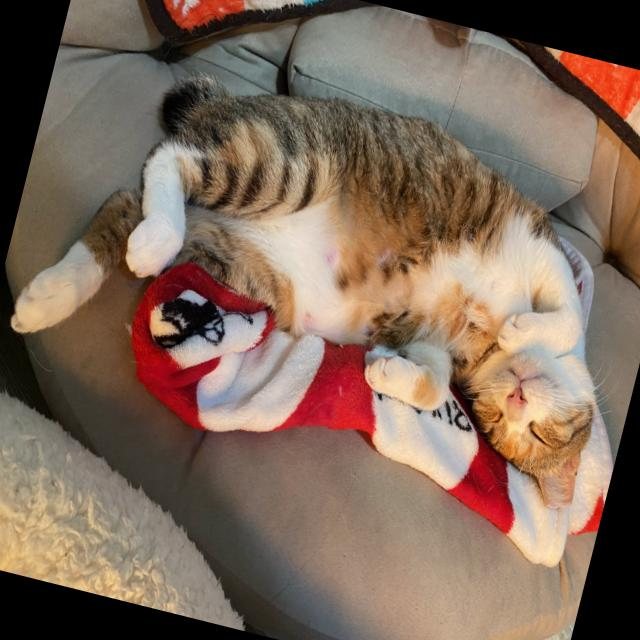cat2: (0, 38, 640, 523)
